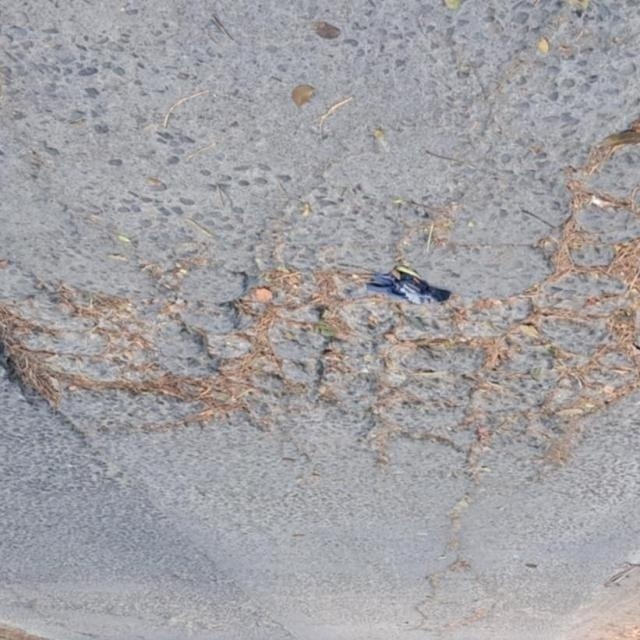pothole: (0, 99, 640, 511)
